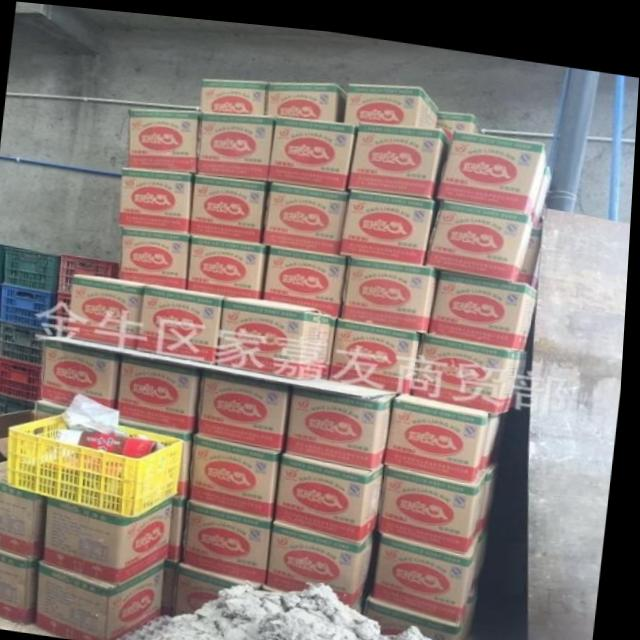box: (49, 494, 179, 584), (42, 555, 172, 640), (283, 446, 391, 536), (384, 455, 492, 544), (377, 525, 483, 613), (220, 292, 334, 373), (275, 514, 381, 601), (391, 385, 493, 475), (418, 325, 533, 404), (428, 191, 538, 272), (441, 122, 549, 203), (291, 381, 400, 461), (434, 262, 540, 340), (195, 428, 289, 513), (138, 281, 235, 360), (349, 116, 451, 190), (200, 366, 296, 444), (188, 496, 279, 578), (345, 249, 442, 323), (343, 183, 440, 255), (372, 578, 483, 640), (332, 313, 427, 385), (270, 111, 358, 184), (124, 413, 200, 495), (122, 353, 207, 426), (265, 178, 352, 248), (72, 273, 153, 346), (266, 239, 349, 310), (44, 340, 126, 405), (198, 108, 276, 176), (191, 230, 272, 294), (0, 460, 51, 560), (193, 172, 271, 237), (178, 557, 269, 611), (121, 166, 196, 230), (128, 107, 200, 169), (123, 225, 194, 285), (345, 77, 440, 121), (0, 548, 46, 623), (268, 76, 348, 116), (201, 75, 270, 111), (485, 452, 507, 525), (488, 404, 513, 461), (438, 103, 487, 131), (522, 216, 544, 278), (535, 155, 555, 217), (174, 497, 192, 558), (41, 398, 73, 420)
